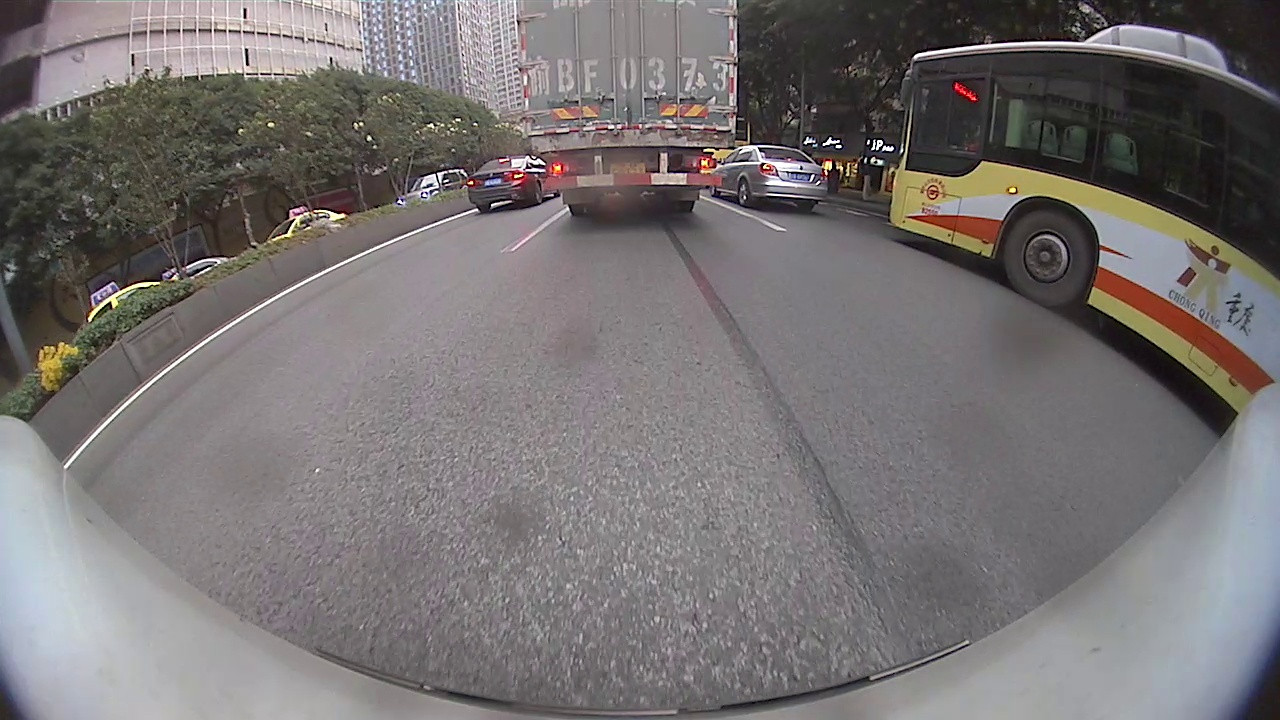bus: (889, 27, 1279, 411)
car: (706, 145, 831, 214), (464, 155, 561, 208)
front: (1000, 206, 1094, 309)
rear: (738, 180, 751, 208), (533, 179, 543, 206)
truck: (517, 2, 738, 214)
